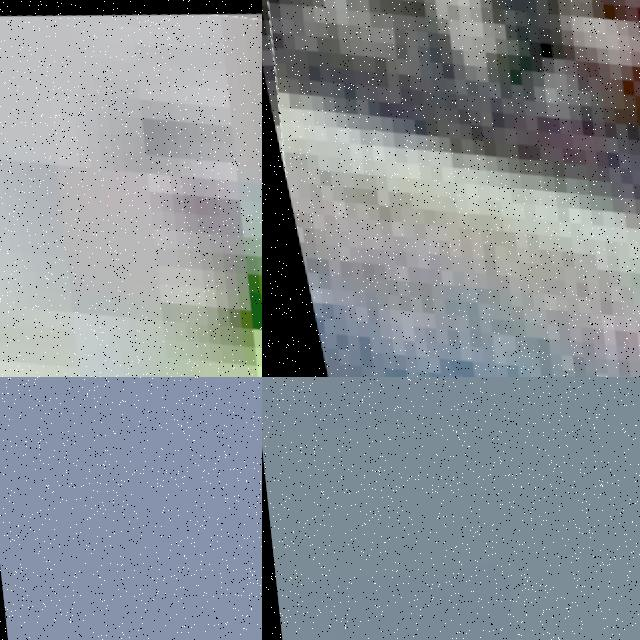drone: (262, 0, 640, 377), (0, 0, 262, 377)
